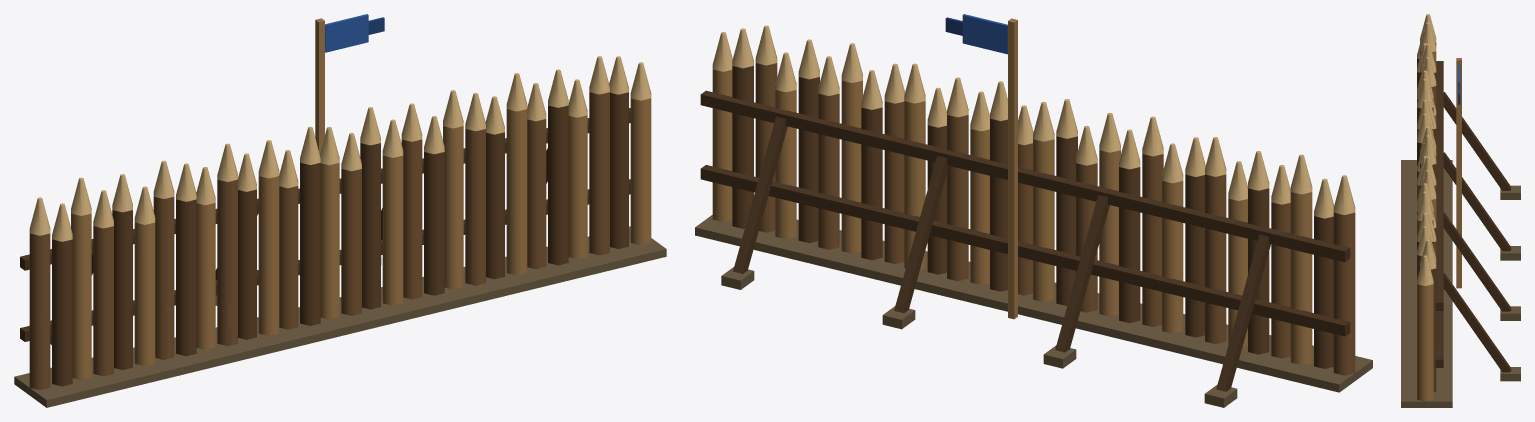
The model's file is palisade-segment.glb.
3 renders of one model, left to right at view 1: azimuth 30°, elevation 25°; view 2: azimuth 150°, elevation 25°; view 3: azimuth 270°, elevation 25°, orthographic. The views are drawn at different scales.
Parts seen in each view (by area): view 1: palisade-segment; view 2: palisade-segment; view 3: palisade-segment.
Part boxes in pixels (box(x1,y1,x2,y2)): palisade-segment: box(14, 14, 666, 407); palisade-segment: box(695, 14, 1372, 407); palisade-segment: box(1401, 14, 1520, 407).
Bounding box in the file's own units: 10 × 4.4 × 2.1.
Materials: 1 (1 with a texture image).
